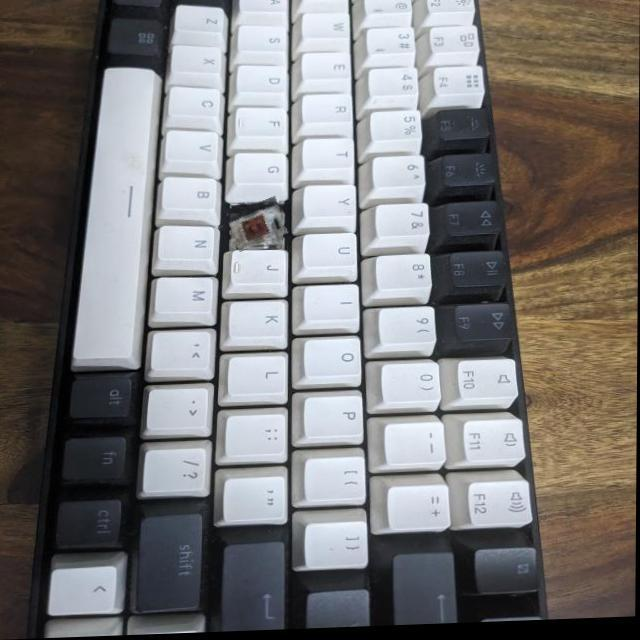key-switch: (230, 202, 287, 251)
